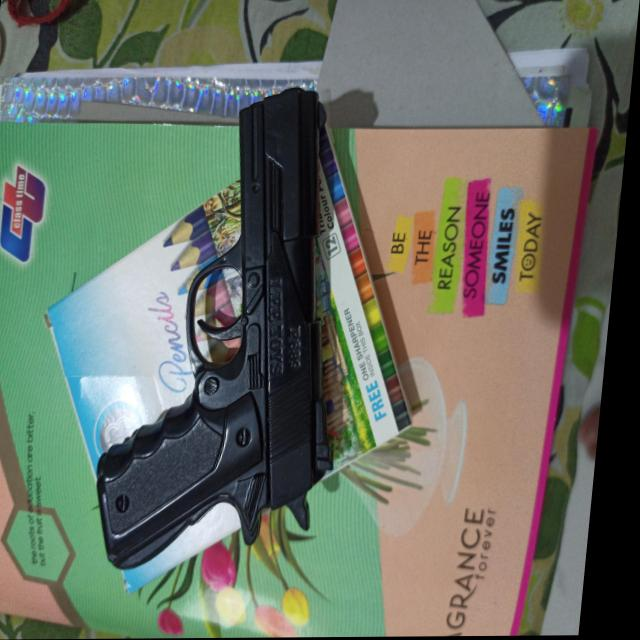handgun: (91, 81, 366, 573)
